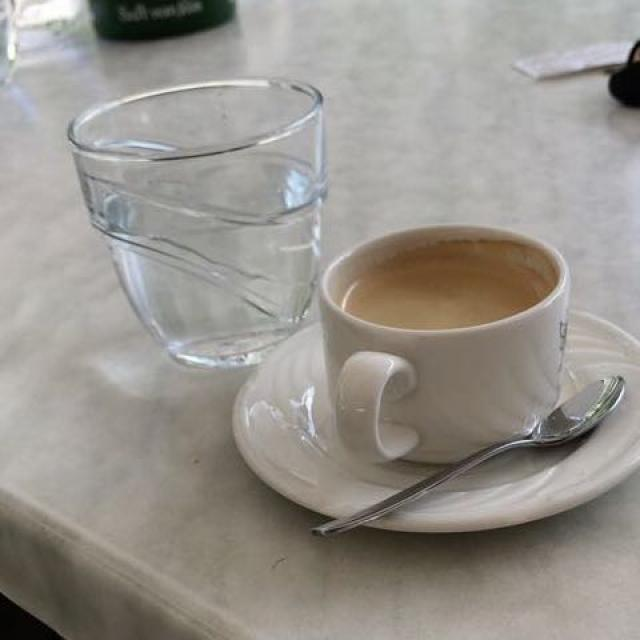espresso: (346, 247, 551, 330)
